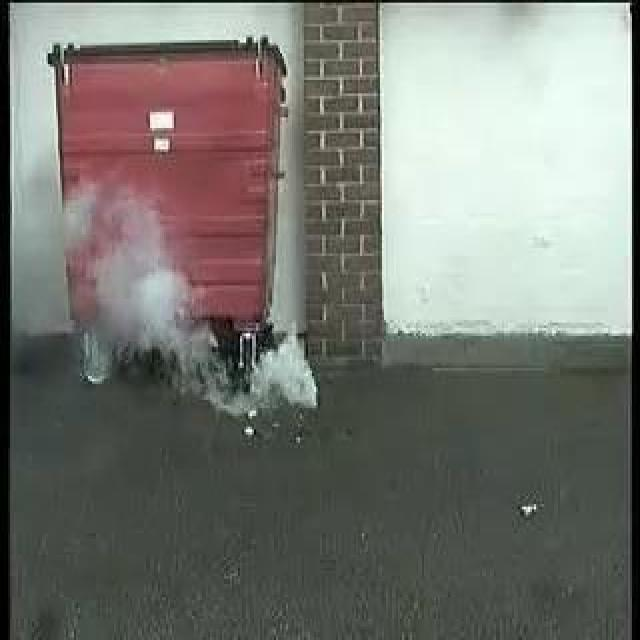Smoke: (60, 196, 318, 404)
